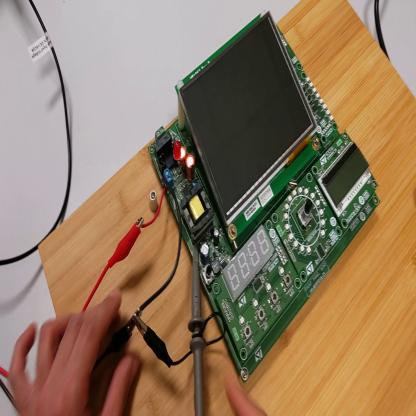hand: (12, 287, 139, 416), (225, 376, 268, 414)
low voltage board: (152, 18, 384, 381)
oscilloscope probe tip: (190, 246, 207, 415)
working area: (38, 1, 416, 415)
